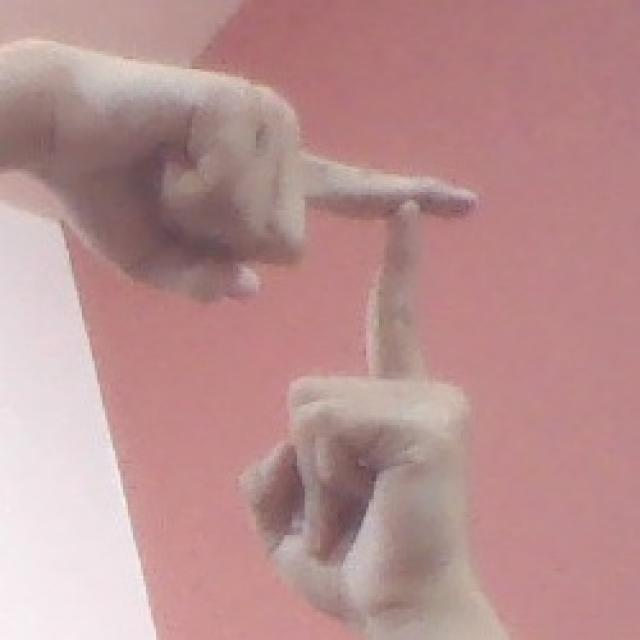Alphabet-T: (65, 52, 487, 635)
